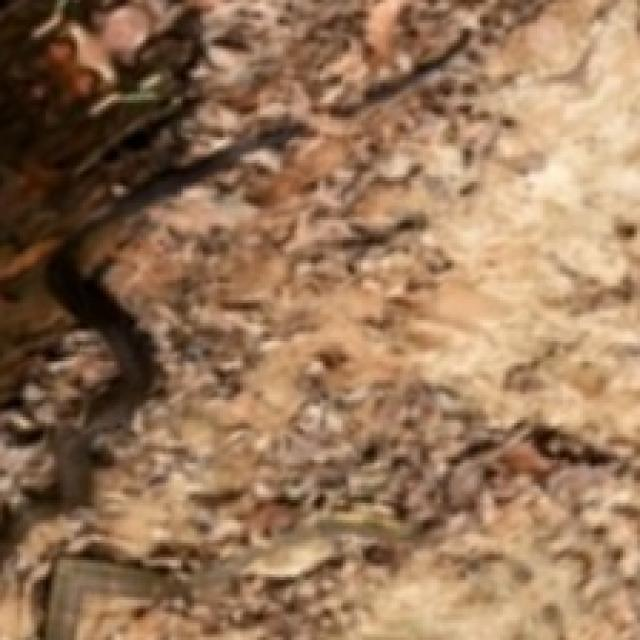king cobra: (0, 126, 299, 557)
